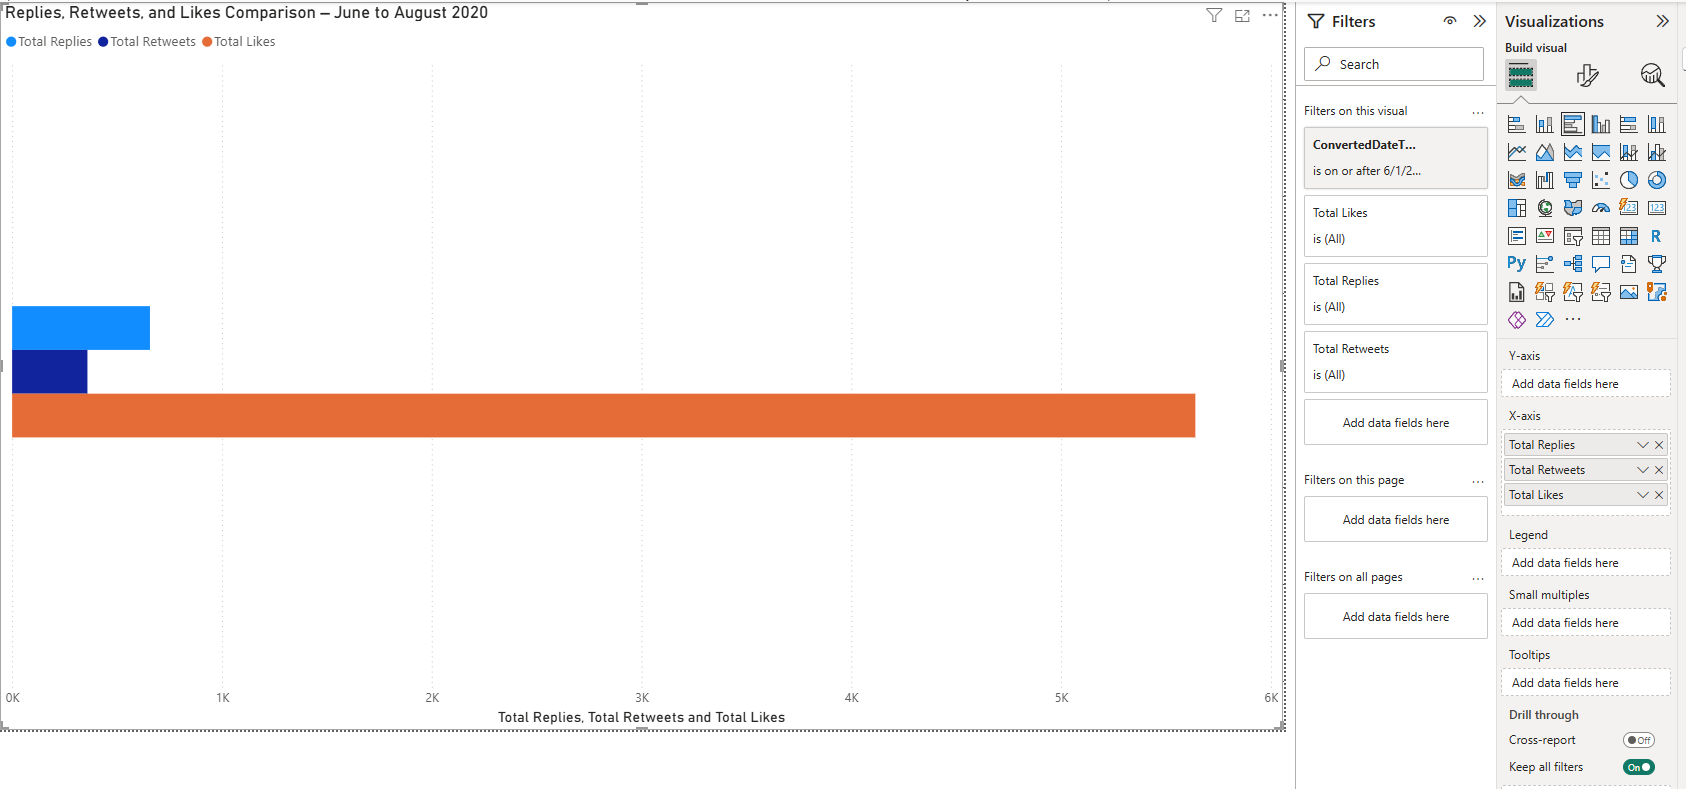

The dashboard page shown, as its layout file describes it:
{"tool":"powerbi","page":{"name":"Task 4","canvas":[1280,720],"ordinal":3},"visuals":[{"type":"clusteredBarChart","title":"Replies, Retweets, and Likes Comparison – June to August 2020","fields":{"Y":["SocialMedia (1).Total Replies","SocialMedia (1).Total Retweets","SocialMedia (1).Total Likes"]},"box":[9.9,0,1269.8,720.5],"z":0}]}

Visuals, with their boxes on the page's 1280x720 design canvas (x1, y1, x2, y2). These are canvas units, not pixel positions in the 1686x789 screenshot, which may show the page scaled, cropped or inside an application window:
"Replies, Retweets, and Likes Comparison – June to August 2020" clusteredBarChart: region(10, 0, 1280, 720)
